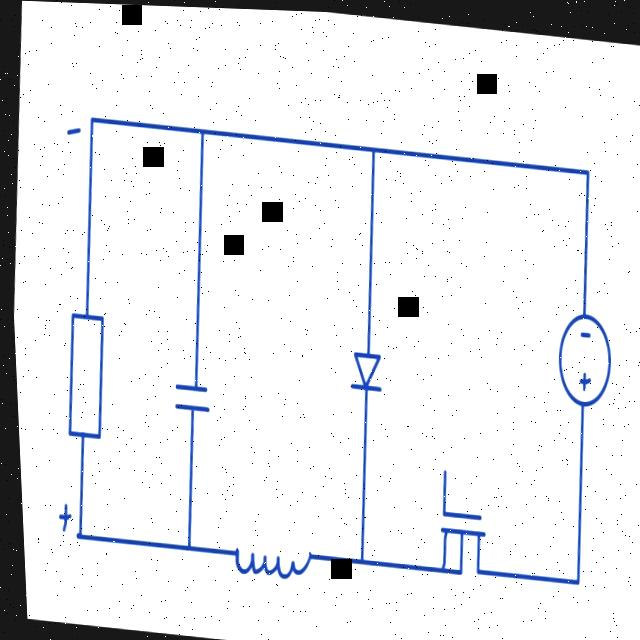capacitor: (157, 356, 224, 434)
diode: (337, 324, 394, 423)
inductor: (218, 511, 323, 606)
mosfet: (423, 452, 500, 598)
resistor: (47, 295, 115, 460)
source: (539, 282, 619, 415)
